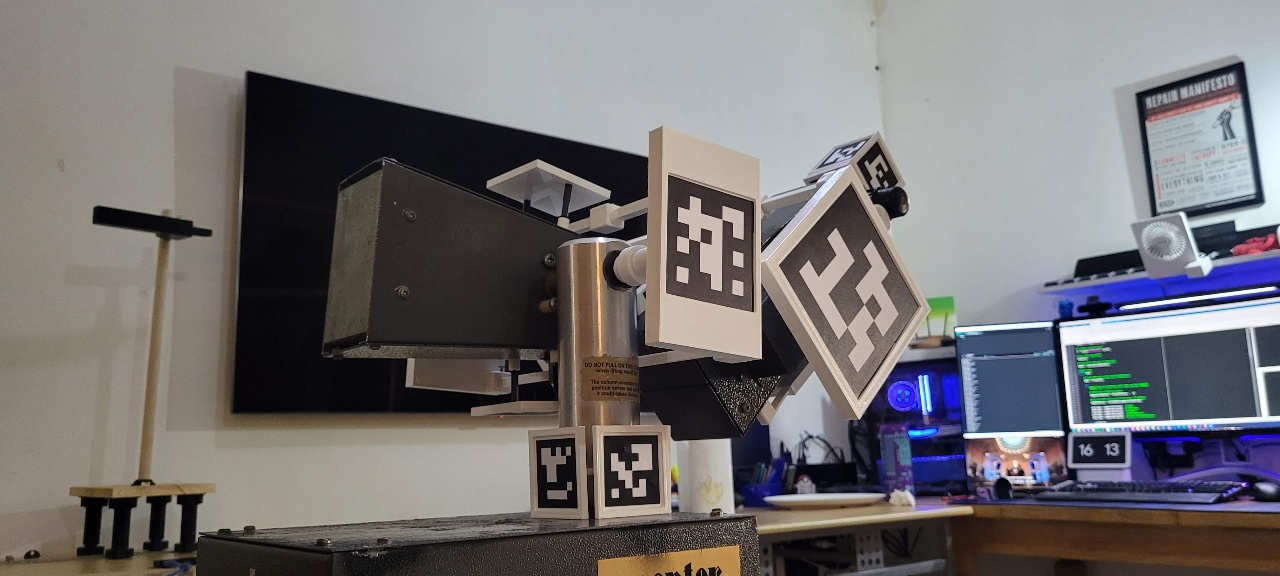Robot: (319, 126, 934, 519)
